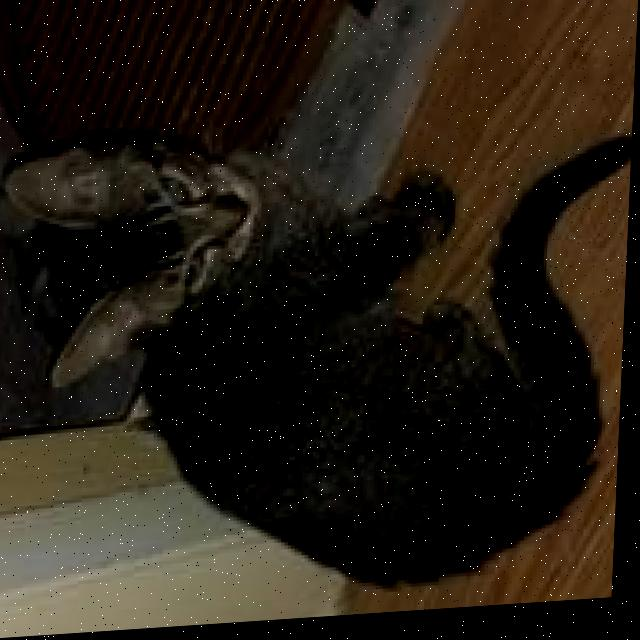Abyssinian: (0, 98, 635, 625)
